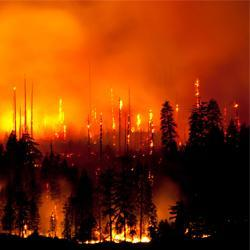fire: (11, 116, 62, 135), (111, 233, 152, 244)
